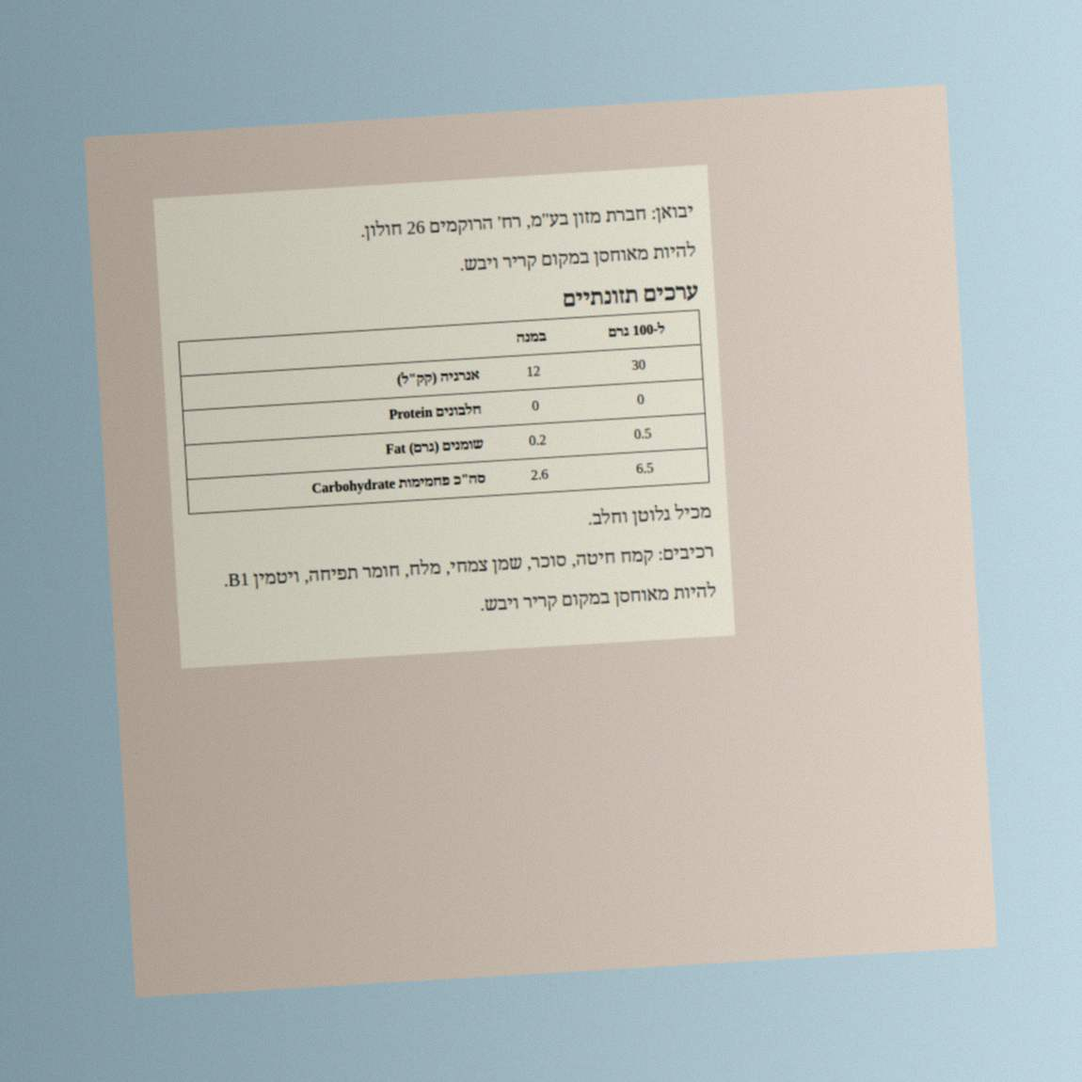carbs: (634, 458, 656, 480)
energy: (629, 355, 648, 376)
fat: (632, 424, 654, 445)
protein: (635, 390, 647, 410)
